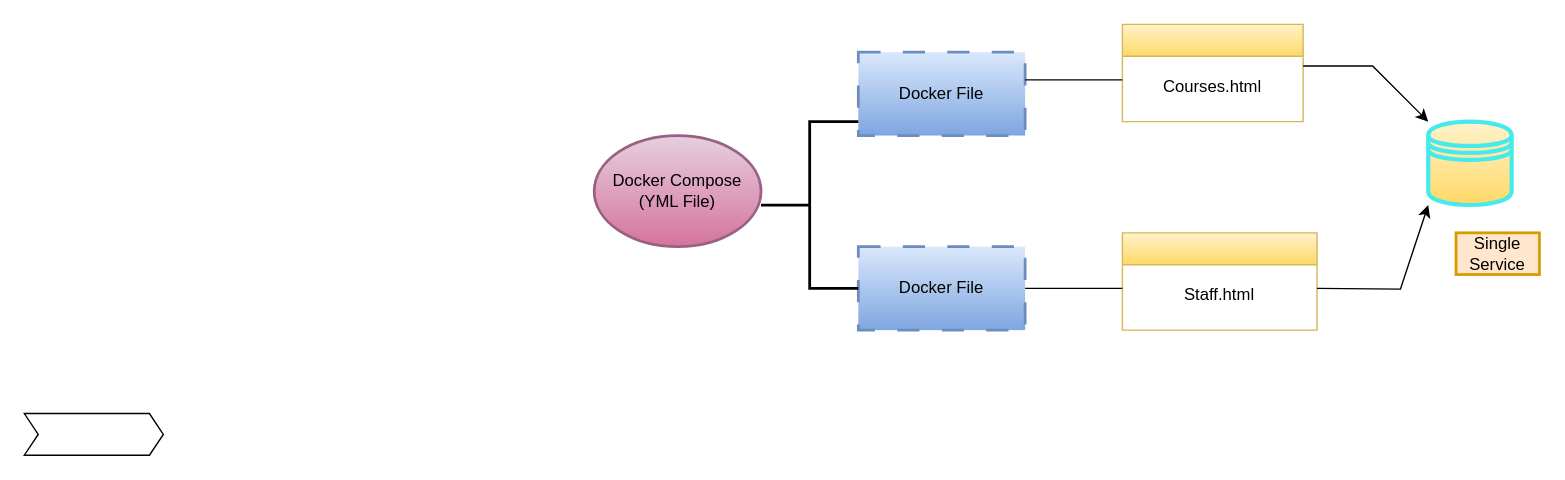
Image size: 1565x480. Some labels were removed from this diagram. Each missing label, with the box of its shape:
Container 1: (1121, 23, 1303, 122)
Container 2: (1121, 231, 1317, 330)
